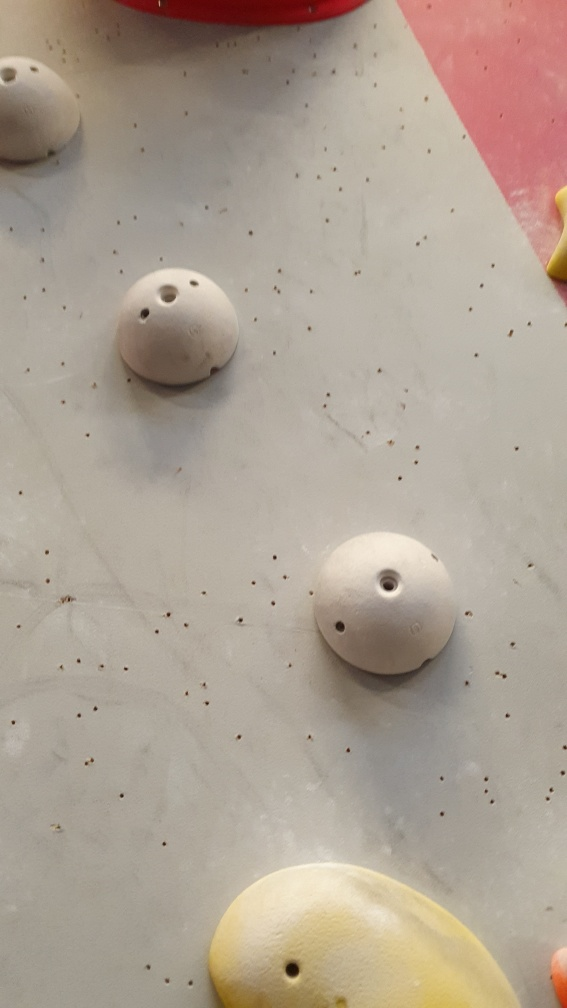Sloper: (316, 528, 460, 682), (111, 259, 242, 389), (1, 52, 86, 173)
